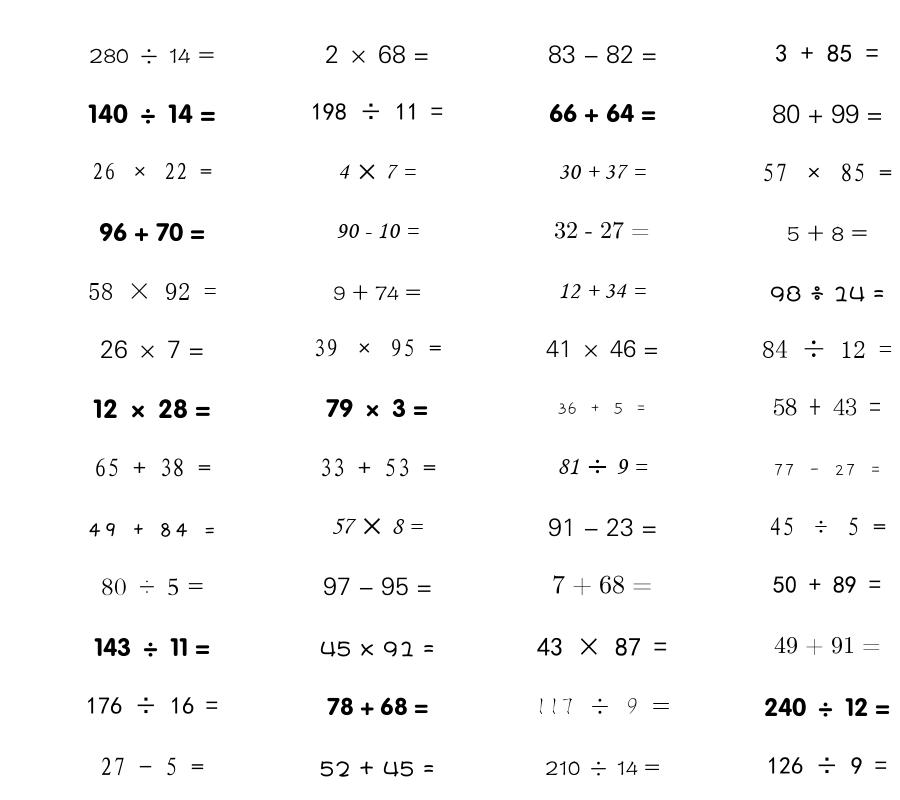MQ: (88, 104, 216, 124), (764, 697, 890, 717), (762, 163, 892, 182), (537, 637, 667, 656), (93, 399, 211, 419), (762, 340, 892, 358), (313, 339, 442, 357), (94, 637, 210, 657), (535, 698, 670, 715), (311, 103, 443, 120), (86, 697, 218, 714), (94, 458, 211, 477), (319, 458, 436, 477), (769, 517, 886, 536), (772, 104, 883, 124), (88, 283, 217, 300), (92, 162, 212, 180), (546, 339, 659, 358), (549, 103, 656, 123), (99, 222, 205, 242), (552, 575, 652, 596), (548, 45, 657, 64), (548, 518, 657, 537), (323, 577, 432, 596), (326, 398, 428, 418), (767, 757, 887, 774), (774, 636, 881, 655), (89, 48, 215, 64), (325, 45, 429, 64), (100, 340, 204, 359), (100, 757, 204, 776), (770, 285, 885, 302), (87, 522, 217, 537), (773, 398, 881, 416), (773, 576, 881, 594), (327, 697, 428, 716), (775, 44, 879, 62), (319, 761, 435, 777), (101, 578, 204, 596), (320, 641, 435, 657), (554, 221, 650, 239), (545, 761, 660, 776), (331, 518, 423, 535), (557, 458, 648, 475), (333, 284, 421, 301), (773, 464, 882, 477), (558, 283, 646, 299), (787, 225, 868, 242), (336, 223, 419, 239), (558, 164, 646, 179), (338, 164, 416, 180), (557, 402, 647, 415)
